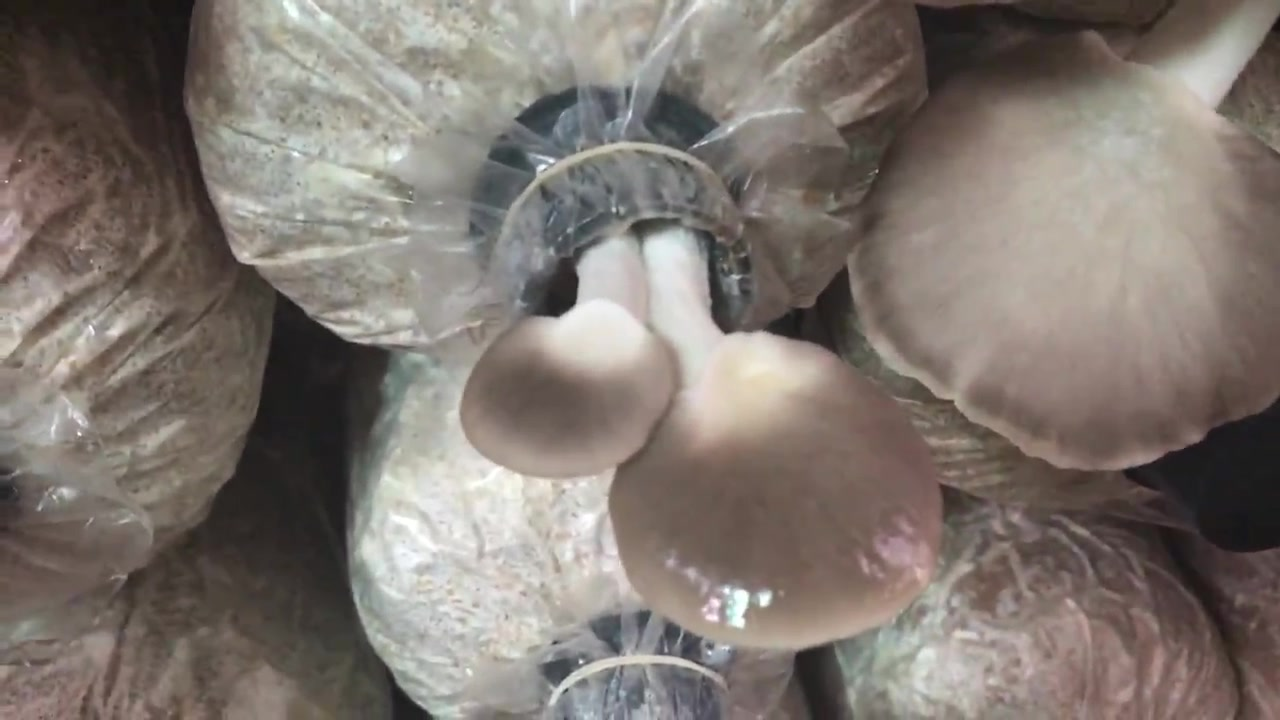nam: (455, 132, 945, 656), (845, 1, 1280, 477)
